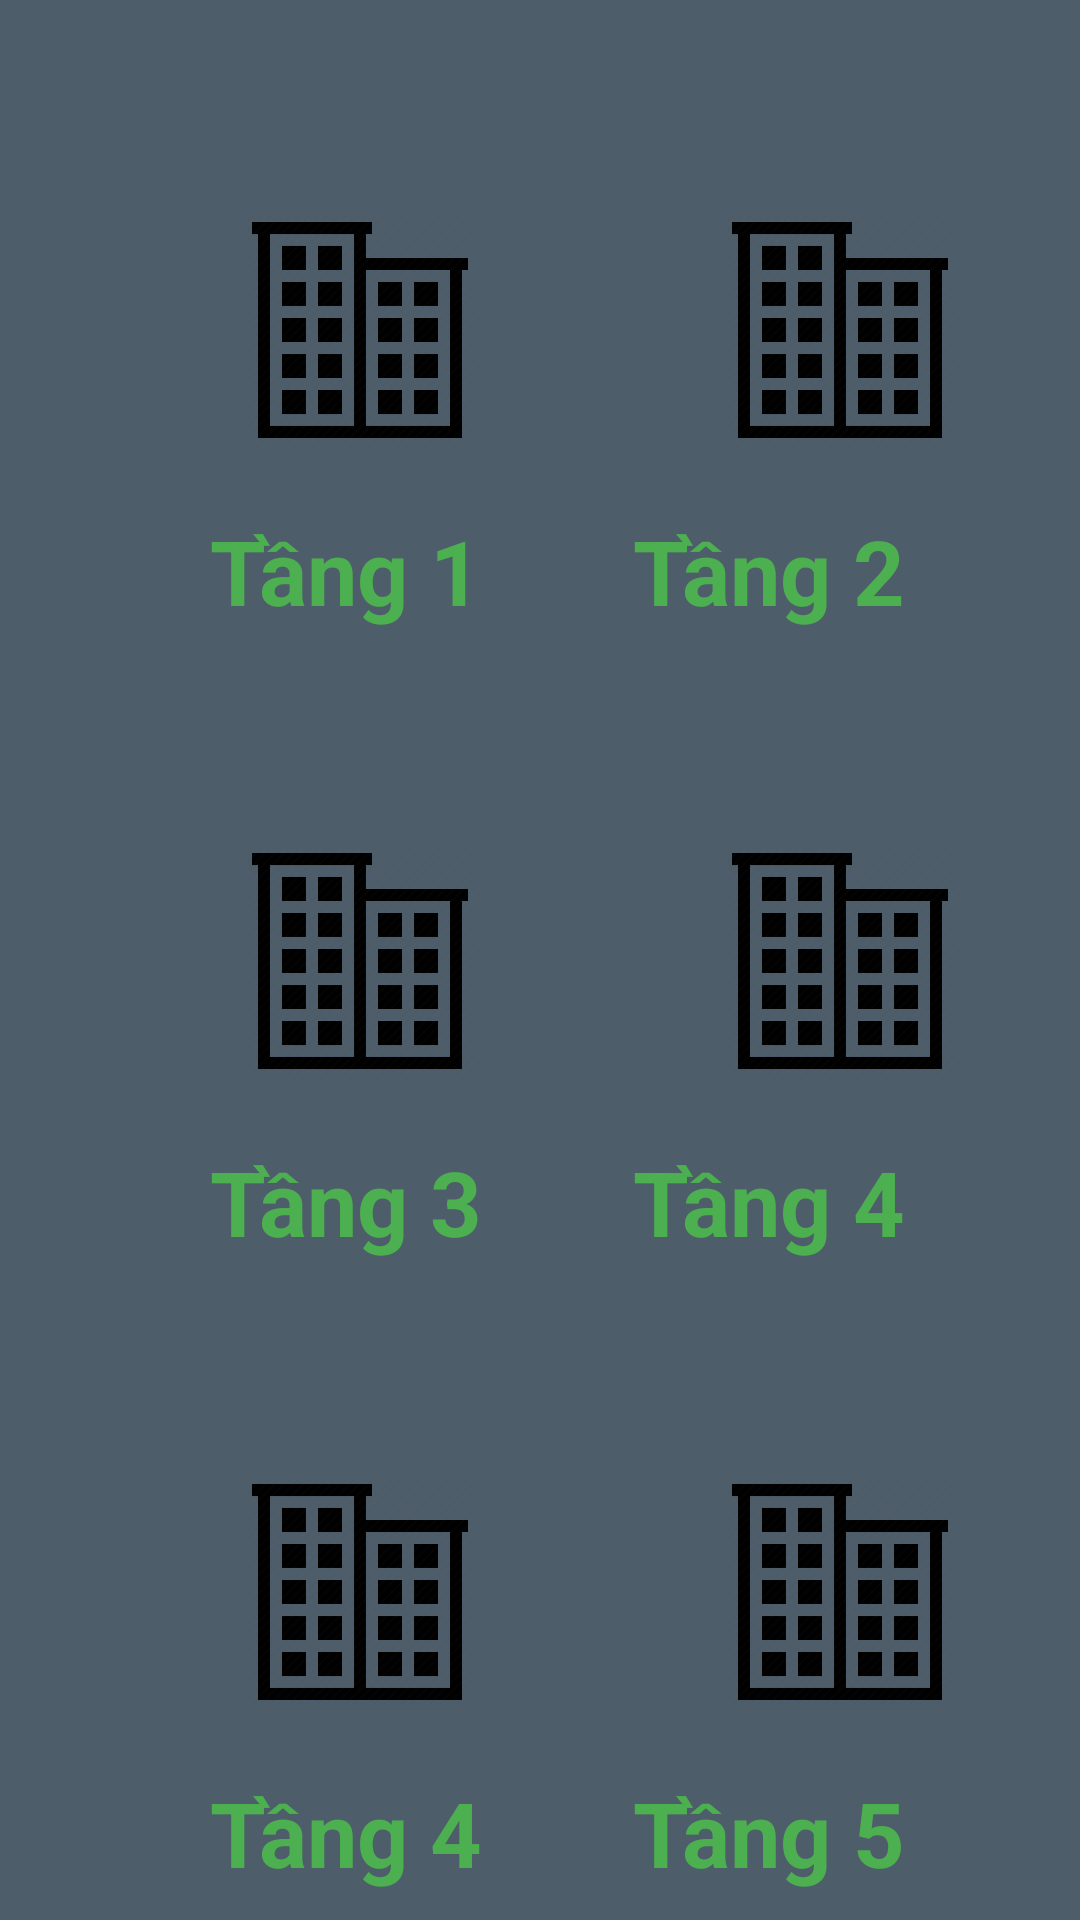

Icon click points for this 1080w x 1920h phone screenshot, format point (x, y):
tang: point (360, 330), point (840, 330), point (360, 961), point (840, 961), point (360, 1592), point (840, 1592)
